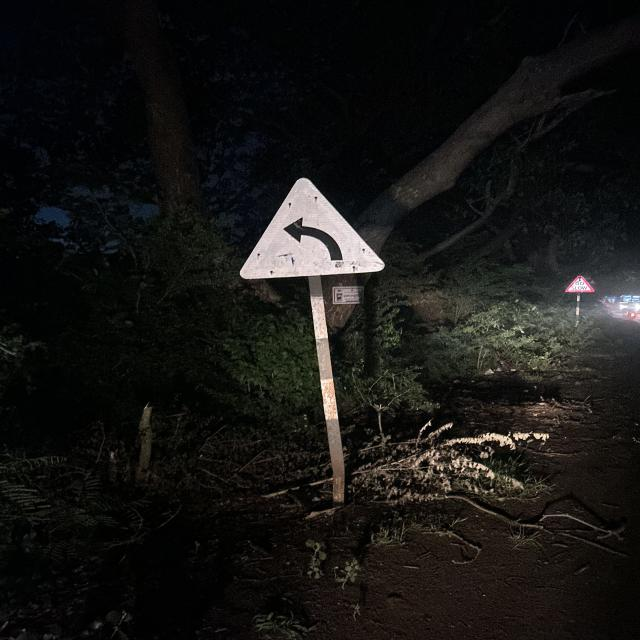left_hand_curve: (234, 175, 388, 283)
